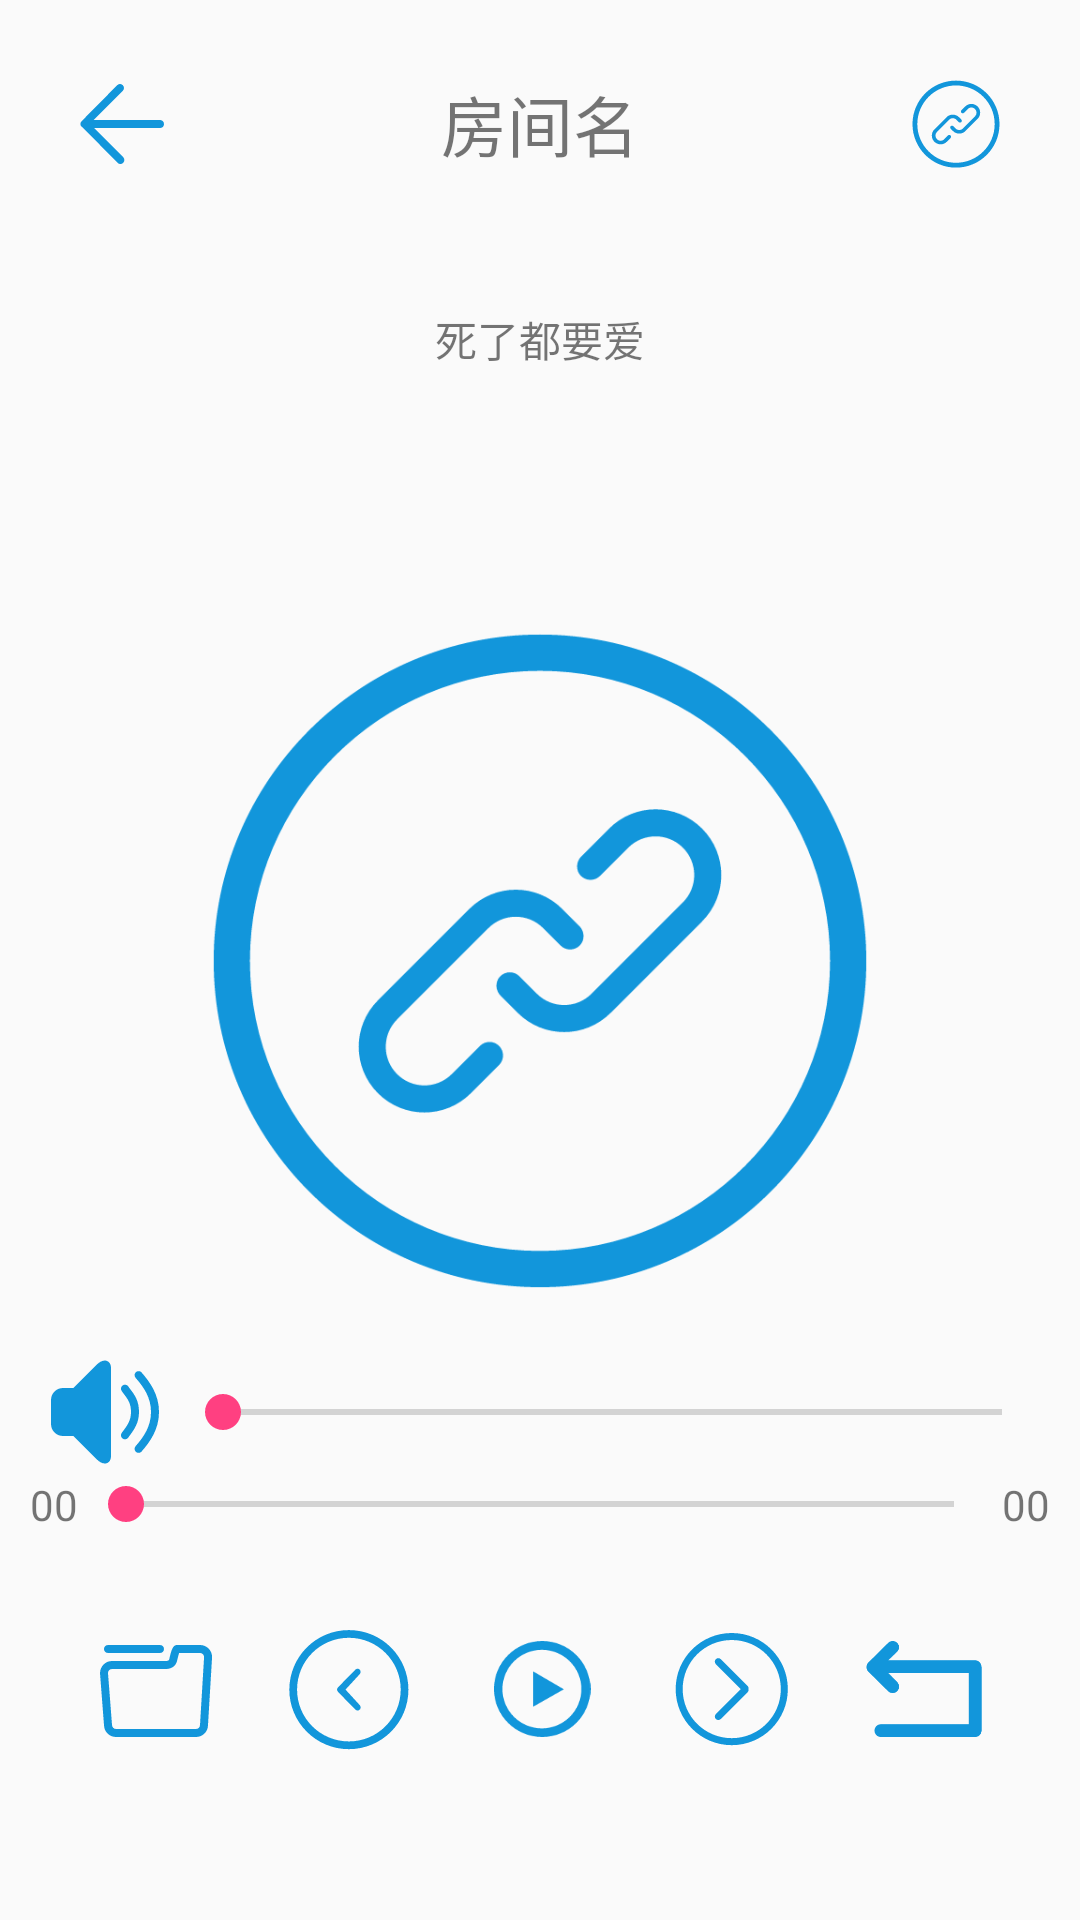

Locate icon controls on the screen. Image size 1080 × 1920, boxes as [left=x1, top=y1, right=x2, bottom=y2].
control back android: [left=80, top=84, right=164, bottom=164]
control file: [left=100, top=1645, right=212, bottom=1737]
control nex: [left=675, top=1633, right=788, bottom=1746]
control previous: [left=289, top=1630, right=409, bottom=1750]
playmodel single play: [left=866, top=1641, right=982, bottom=1737]
playstate play: [left=494, top=1641, right=591, bottom=1737]
